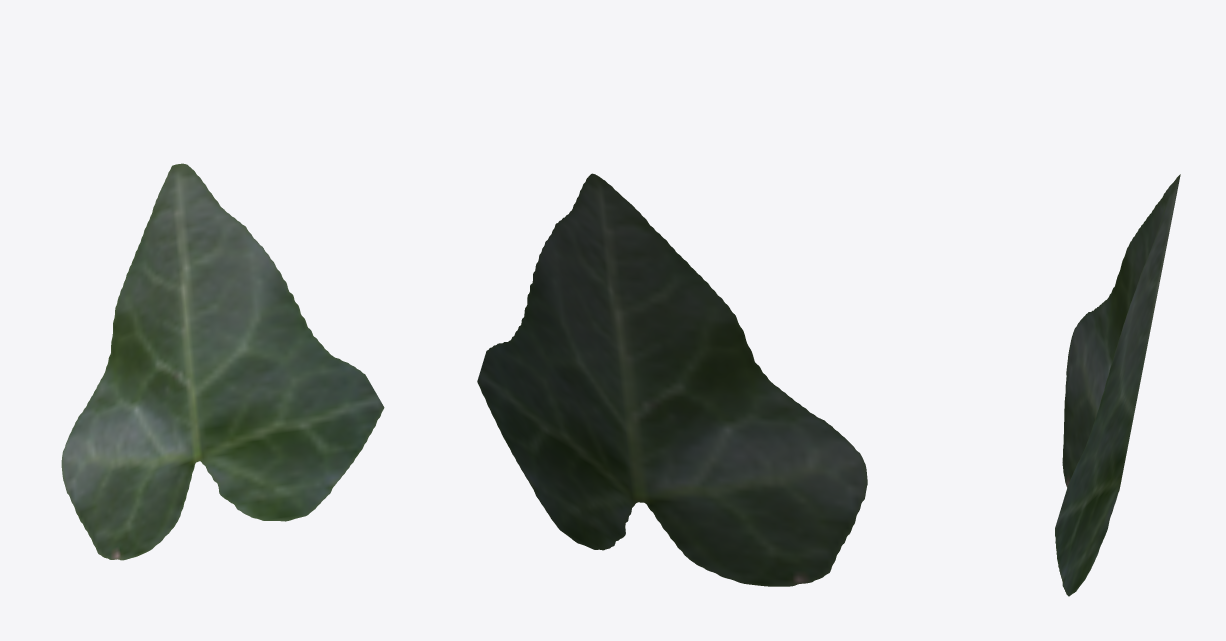
File: ivy.fbx
3 views of the same model, side by side, from view 1: azimuth 30°, elevation 25°; view 2: azimuth 150°, elevation 25°; view 3: azimuth 270°, elevation 25° (orthographic). The views are drawn at different scales.
Parts seen in each view (by area): view 1: Polygon; view 2: Polygon; view 3: Polygon.
Boxes of the visible parts, x1,y1,x2,y2 form: Polygon: (61, 163, 384, 560); Polygon: (477, 173, 867, 586); Polygon: (1055, 174, 1180, 596).
Size of the model in its own units: 3.9 by 4.51 by 1.4.
